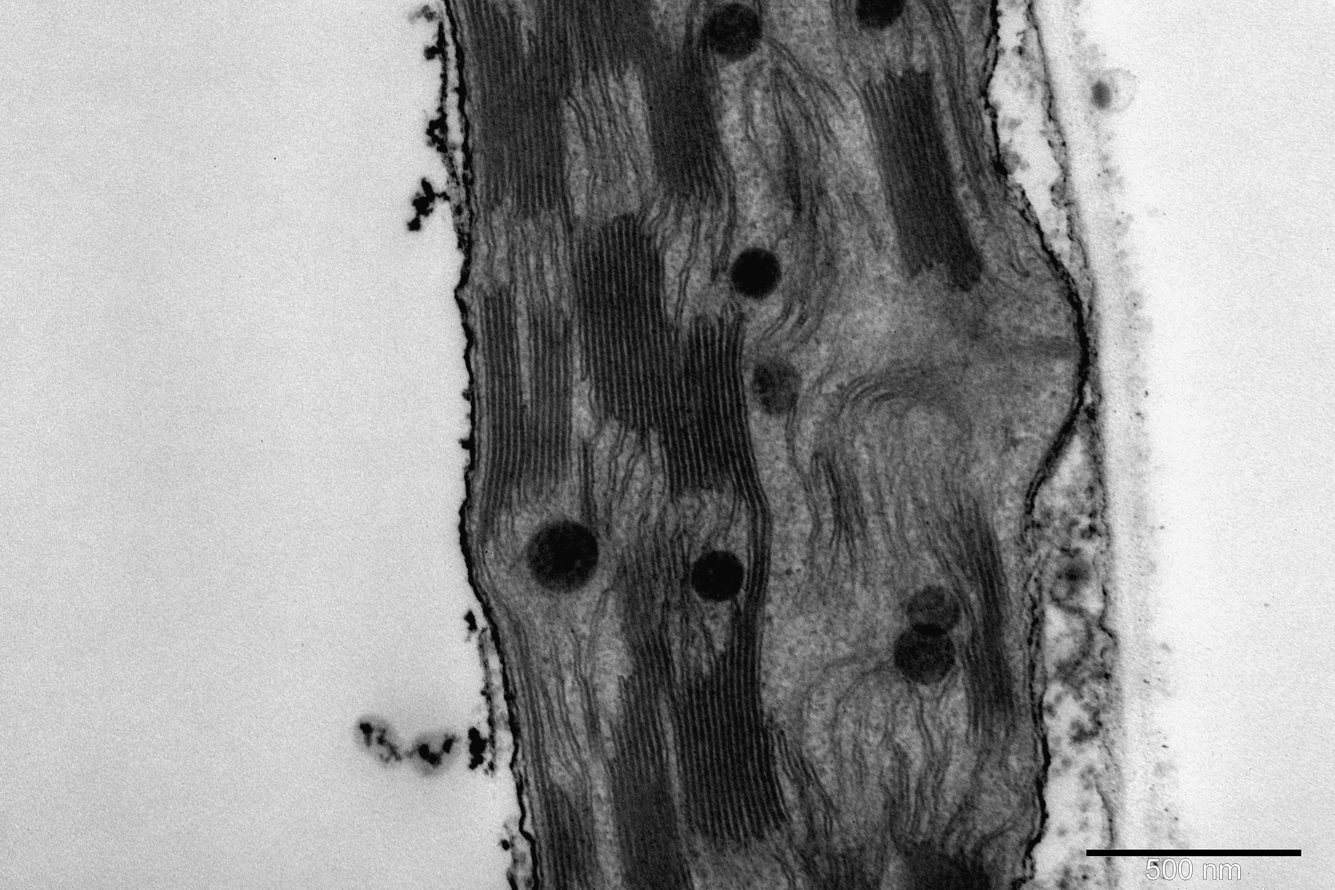granum: (561, 208, 777, 603), (661, 612, 794, 854), (851, 64, 984, 296), (469, 282, 578, 543), (458, 2, 580, 225), (600, 672, 695, 888), (632, 32, 725, 205), (942, 75, 1011, 218), (608, 540, 675, 685), (953, 622, 1018, 756), (941, 510, 1014, 629), (532, 780, 606, 890), (571, 0, 654, 79), (895, 837, 995, 888), (778, 748, 819, 792)
